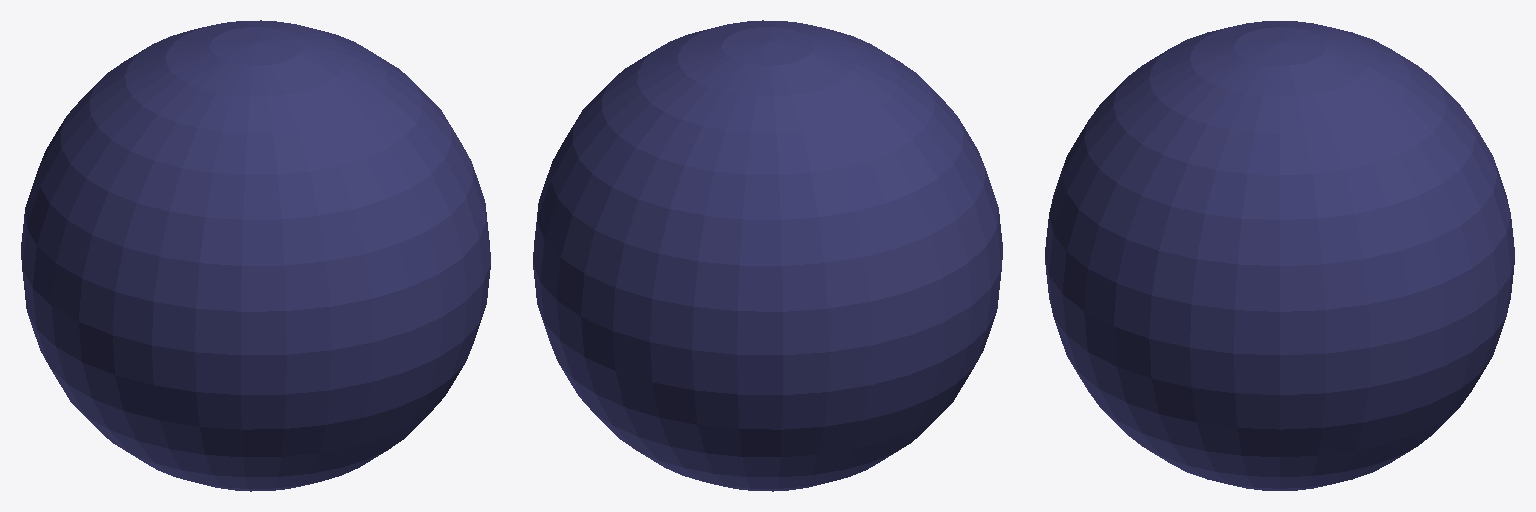
robot.urdf — punching_bag:
<?xml version='1.0' encoding='utf-8'?>
<robot name="punching_bag">

    <link name="link0">
      <inertial>
        <origin xyz="0 0 0" rpy="0 0 0" />
        <mass value="1e-16" />
        <inertia ixx="0.1" iyy="0.1" izz="0.1" ixy="0" ixz="0" iyz="0" />
      </inertial>
      <!-- <visual>
        <geometry>
          <mesh filename="../../../model/boxing_ring/meshes/.../">
        </geometry>
      </visual> -->
<!--       <collision>
        <geometry>
          <mesh filename="../../../model/boxing_ring/meshes/.obj"/>
        </geometry>
      </collision> -->
    </link>
    <link name="link1">
      <inertial>
        <origin xyz="0 0 0" rpy="0 0 0" />
        <mass value="1e-16"/>
        <inertia ixx="0.1" iyy="0.1" izz="0.1" ixy="0" ixz="0" iyz="0" />
      </inertial>
      <!-- <visual>
        <geometry>
          <mesh filename="../../../model/boxing_ring/meshes/.obj"/>
        </geometry>
      </visual> -->
      <!-- <collision>
        <geometry>
          <mesh filename="../../../model/boxing_ring/meshes/.obj"/>
        </geometry>
      </collision> -->
    </link>
    <link name="link2">
      <inertial>
        <origin xyz="0 0 0" rpy="0 0 0" />
        <mass value="1e-16" />
        <inertia ixx="0.3" iyy="0.3" izz="0.3" ixy="0" ixz="0" iyz="0" />
      </inertial>
      <!-- <visual>
        <geometry>
          <mesh filename="../../../model/boxing_ring/meshes/.obj"/>
        </geometry>
      </visual> -->
      <!-- <collision>
        <geometry>
          <mesh filename="../../../model/boxing_ring/meshes/.obj"/>
        </geometry>
      </collision> -->
    </link>
    <link name="bag">
      <inertial>
        <origin xyz="0 -0.8 0" rpy="0 0 0" />
        <mass value="20" />
        <inertia ixx="10e-14" iyy="10e-14" izz="10e-14" ixy="0" ixz="0" iyz="0" />
      </inertial>
      <visual>
        <origin xyz="0 0 0" rpy="0 0 0" />
        <geometry> <!-- Add origins to all visuals!! -->
          <mesh filename="../../../model/boxing_ring/meshes/punchbag_blender.obj"/>
        </geometry>
      </visual>
      <!-- For finding the origin if needed -->
      <visual>
        <origin xyz="0 -0.8 0" rpy="0 0 0" />
        <geometry>
          <sphere radius="0.3" rgba="0.5 0.5 1"/>
        </geometry>
        <material name="material_gray">
          <color rgba="0.3 0.3 0.5 1.0" />
        </material>
      </visual>

      <!-- Suggestions: Use cylinder primitive  -->
      <!-- http://wiki.ros.org/urdf/Tutorials/Adding%20Physical%20and%20Collision%20Properties%20to%20a%20URDF%20Model -->
      <!-- <collision>
        <geometry>
          <mesh filename="../../../model/boxing_ring/meshes/collision/punchbag_collision.obj"/>
        </geometry>
      </collision> -->
    </link>

    <joint name="joint1" type="revolute">
      <safety_controller k_position="100.0" k_velocity="50.0" soft_lower_limit="-1.57079632679" soft_upper_limit="1.57079632679"/>
      <origin rpy="0 0 0" xyz="0 0 0"/>
      <parent link="link0"/>
      <child link="link1"/>
      <axis xyz="0 0 1"/>
      <limit effort="100" lower="-3.14159265359" upper="3.14159265359" velocity="3.14159265359"/>
    </joint>
    <joint name="joint2" type="revolute">
      <safety_controller k_position="100.0" k_velocity="50.0" soft_lower_limit="-1.57079632679" soft_upper_limit="1.57079632679"/>
      <origin rpy="0 0 0" xyz="0 0 0"/>
      <parent link="link1"/>
      <child link="link2"/>
      <axis xyz="0 1 0"/>
      <limit effort="100" lower="-3.14159265359" upper="3.14159265359" velocity="3.14159265359"/>
    </joint>
    <joint name="joint3" type="revolute">
      <safety_controller k_position="100.0" k_velocity="50.0" soft_lower_limit="-1.57079632679" soft_upper_limit="1.57079632679"/>
      <origin rpy="0 0 0" xyz="0 0 0"/>
      <parent link="link2"/>
      <child link="bag"/>
      <axis xyz="1 0 0"/>
      <limit effort="100" lower="-3.14159265359" upper="3.14159265359" velocity="3.14159265359"/>
    </joint>

</robot>

--- Render facts (derived) ---
The picture shows the robot from 3 angles, left to right: view 1: azimuth 30°, elevation 25°; view 2: azimuth 150°, elevation 25°; view 3: azimuth 270°, elevation 25°; orthographic projection.
Model punching_bag with 4 links and 3 joints (3 revolute), rooted at link0, posed all joints at 0.
Visible links, largest first — view 1: bag; view 2: bag; view 3: bag.
Link boxes in pixels (box(x1,y1,x2,y2)): bag: box(21, 20, 490, 491); bag: box(533, 20, 1002, 491); bag: box(1045, 21, 1514, 490).
Bounding box of the posed robot: 0.6 × 0.6 × 0.6 m (x, y, z).
Geometry: only primitive shapes (box / cylinder / sphere) drawn; not drawn: 1 mesh visual (reference in a form the renderer does not follow).